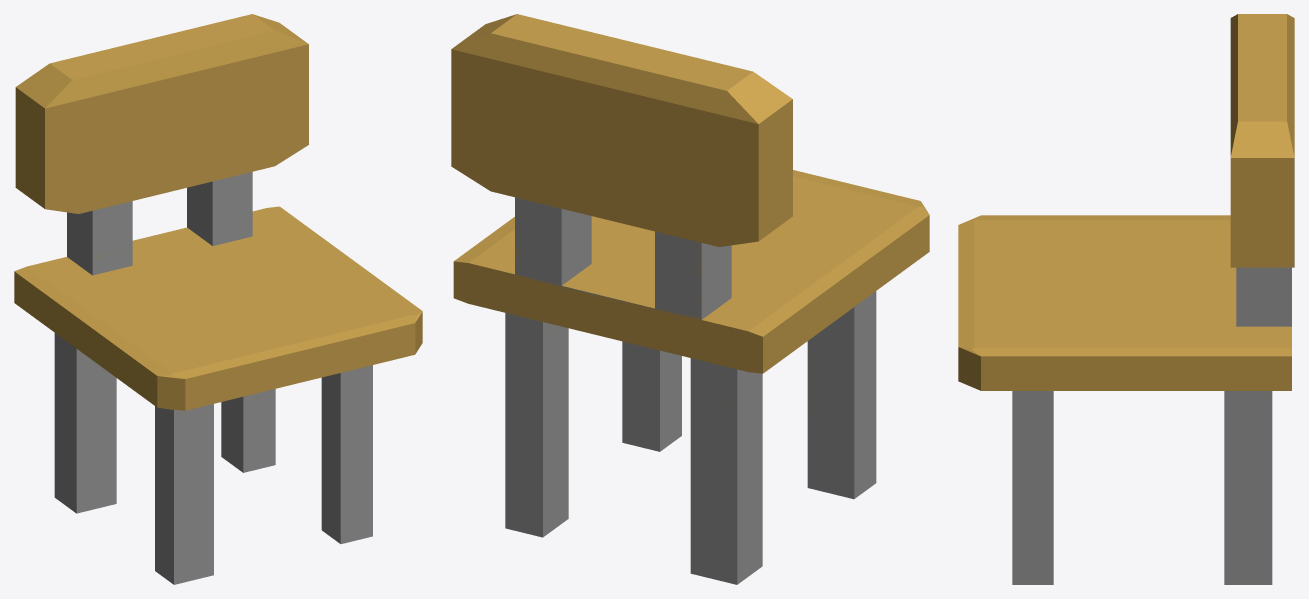
The model's file is chair.fbx.
3 renders of one model, left to right at view 1: azimuth 30°, elevation 25°; view 2: azimuth 150°, elevation 25°; view 3: azimuth 270°, elevation 25°, orthographic. The views are drawn at different scales.
Visible parts, largest first — view 1: Cube; view 2: Cube; view 3: Cube.
Boxes of the visible parts, bbox=[...] form: Cube: bbox=[14, 14, 422, 584]; Cube: bbox=[451, 14, 929, 584]; Cube: bbox=[958, 14, 1294, 584].
Size of the model in its own units: 287 by 442 by 288.
